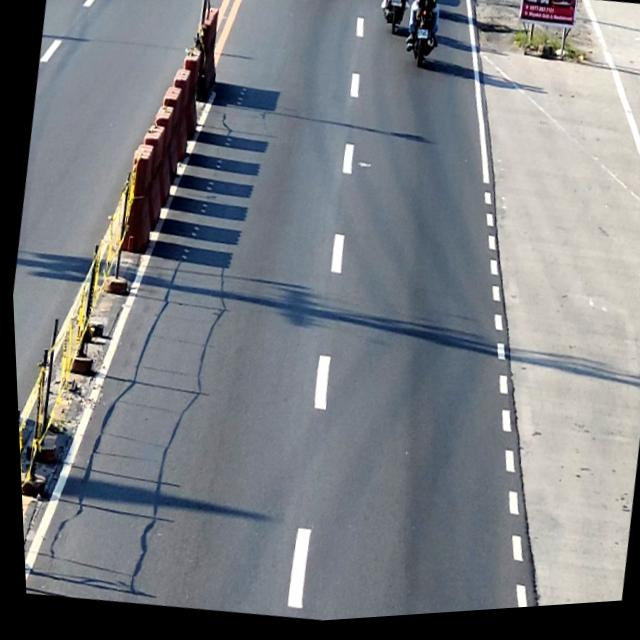License-Plate: (390, 0, 402, 13), (415, 35, 429, 45)
Motorcycle: (401, 0, 443, 77), (377, 0, 410, 42)
